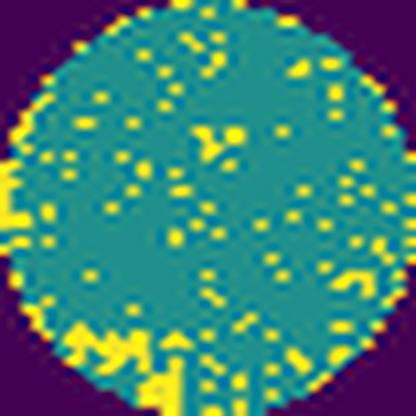Loc: (67, 322, 182, 415)
